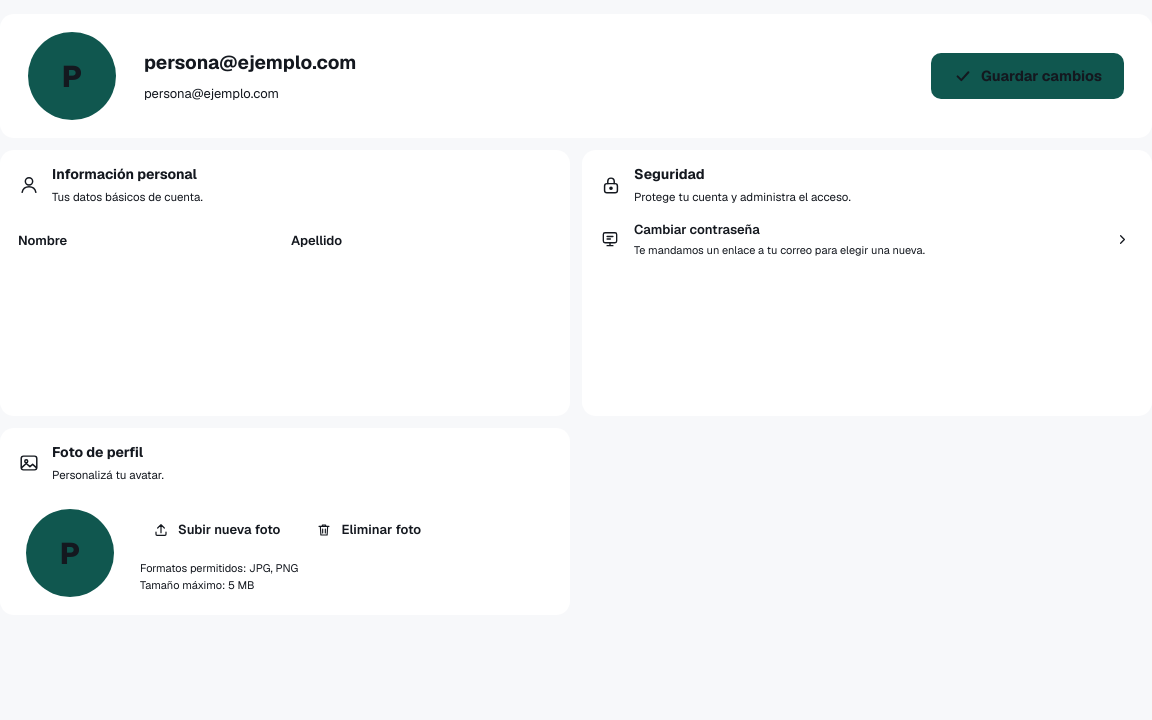
Test case: Mi perfil › si Supabase rechaza el pedido, muestra el error
The image size is (1152, 720).
Click the button "Cambiar contraseña".
click(697, 230)  # box [600,215,1134,263]
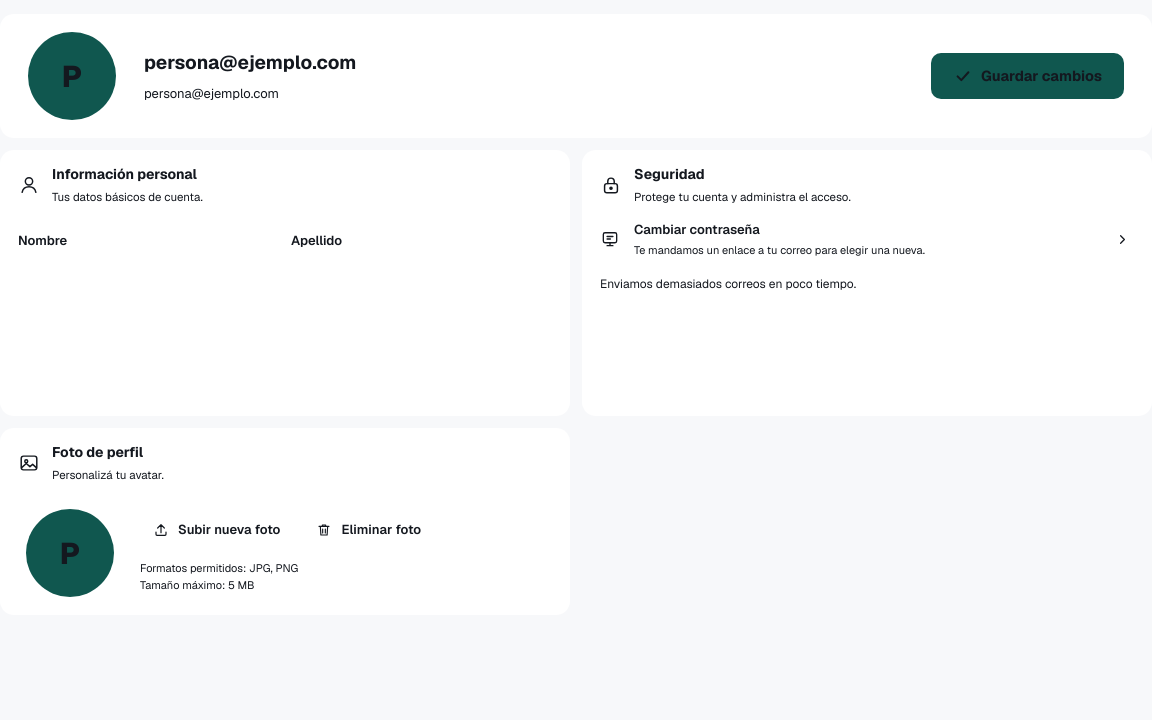
Check: the message shows "Enviamos demasiados correos", box [600,276,856,292]
